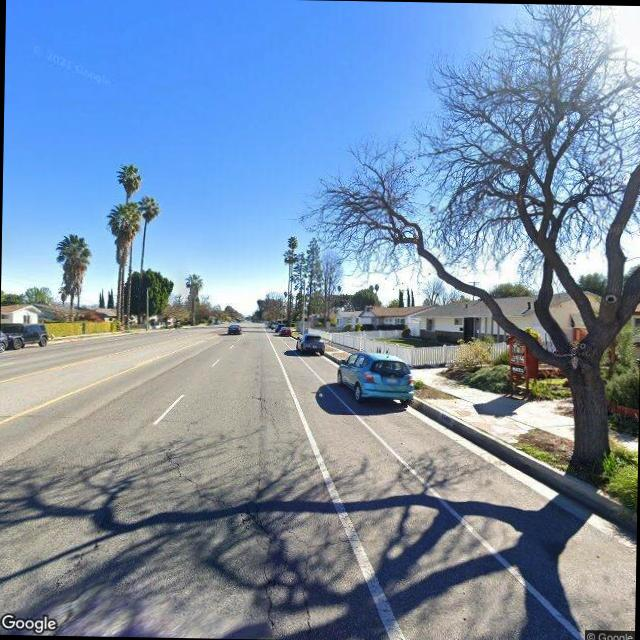crack: (144, 412, 352, 636)
